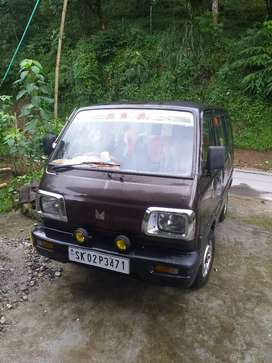SK02P3471: (68, 245, 129, 274)
